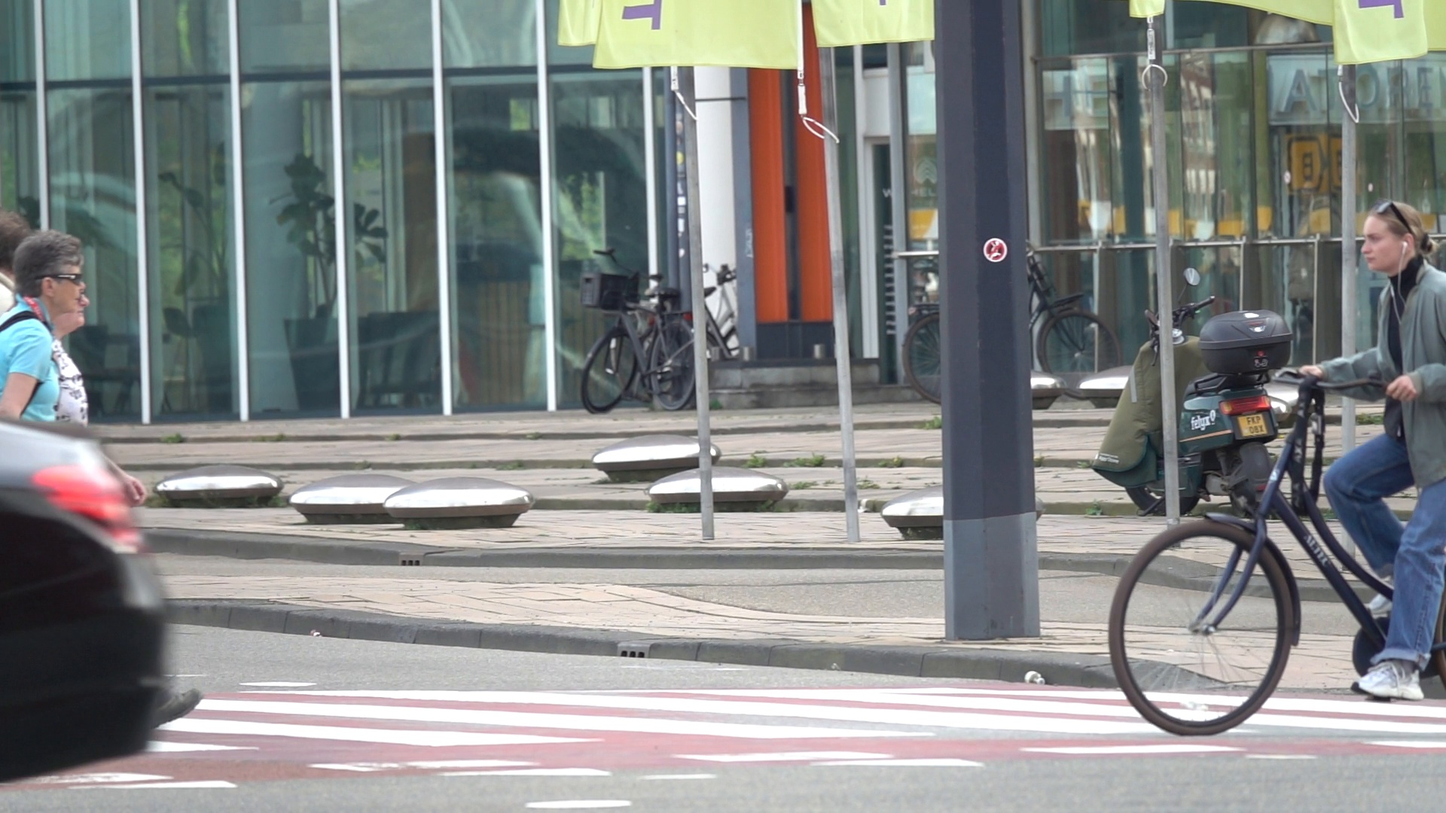car: (1, 417, 203, 781)
